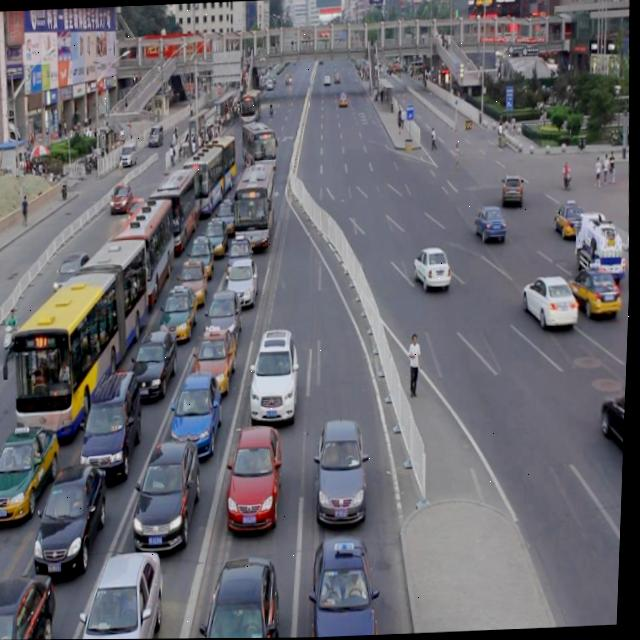bus: (573, 208, 627, 282)
car: (34, 460, 114, 565), (80, 545, 169, 639), (135, 433, 207, 545), (310, 533, 385, 638), (203, 552, 285, 639), (81, 365, 148, 471), (315, 415, 374, 517), (0, 421, 63, 516), (228, 423, 289, 521), (250, 325, 304, 417), (0, 566, 62, 640), (173, 367, 226, 448), (133, 322, 181, 393), (567, 261, 623, 319), (522, 274, 580, 329), (193, 323, 240, 389), (206, 287, 247, 343), (161, 281, 202, 336), (601, 390, 629, 456), (414, 246, 454, 289), (229, 253, 262, 301), (179, 252, 211, 299), (474, 205, 508, 244), (55, 254, 92, 289), (553, 199, 584, 238), (228, 228, 254, 273), (189, 232, 217, 273), (215, 192, 241, 229), (205, 212, 230, 250), (499, 172, 525, 206), (110, 184, 135, 211), (129, 196, 148, 221)
van: (0, 235, 157, 433), (109, 191, 179, 303), (183, 126, 239, 207), (232, 159, 279, 250), (154, 161, 200, 246), (241, 121, 280, 177)
